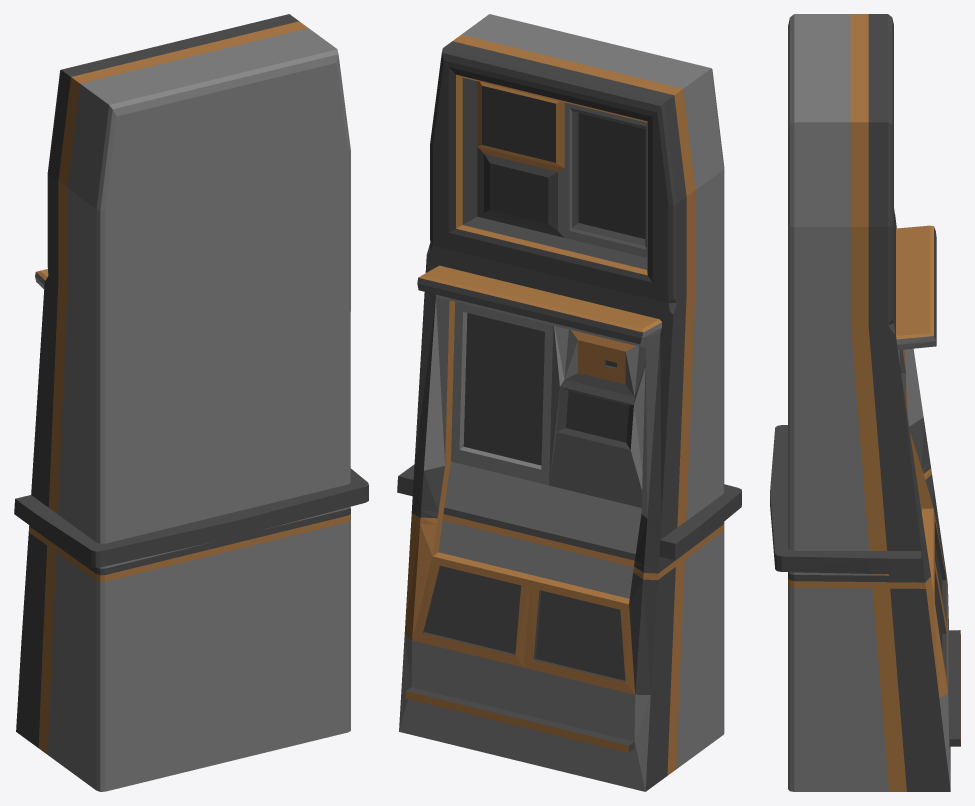
File: Card_terminal.fbx
The picture shows the model from 3 angles, left to right: view 1: azimuth 30°, elevation 25°; view 2: azimuth 150°, elevation 25°; view 3: azimuth 270°, elevation 25°; orthographic projection. The views are drawn at different scales.
Parts seen in each view (by area): view 1: SM_ID_Panel; view 2: SM_ID_Panel; view 3: SM_ID_Panel.
Boxes of the visible parts, bbox=[...] form: SM_ID_Panel: bbox=[14, 14, 368, 791]; SM_ID_Panel: bbox=[397, 14, 741, 791]; SM_ID_Panel: bbox=[770, 14, 960, 791].
Size of the model in its own units: 0.7884 by 1.8 by 0.4691.
